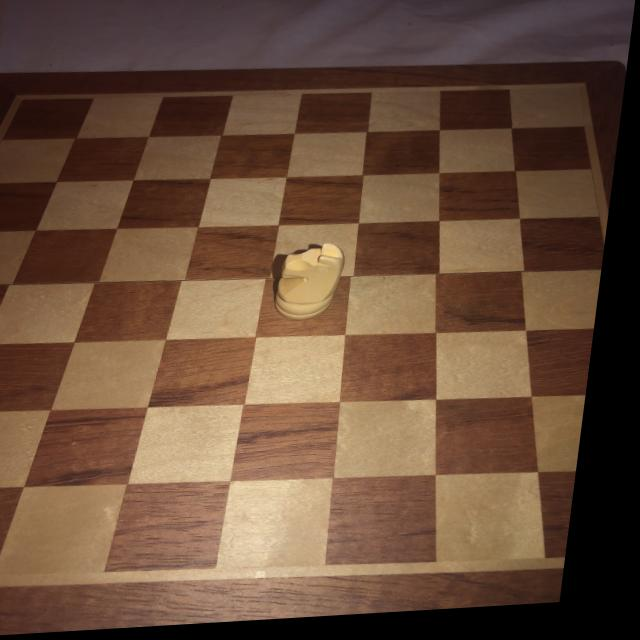white_knight: (272, 245, 353, 325)
